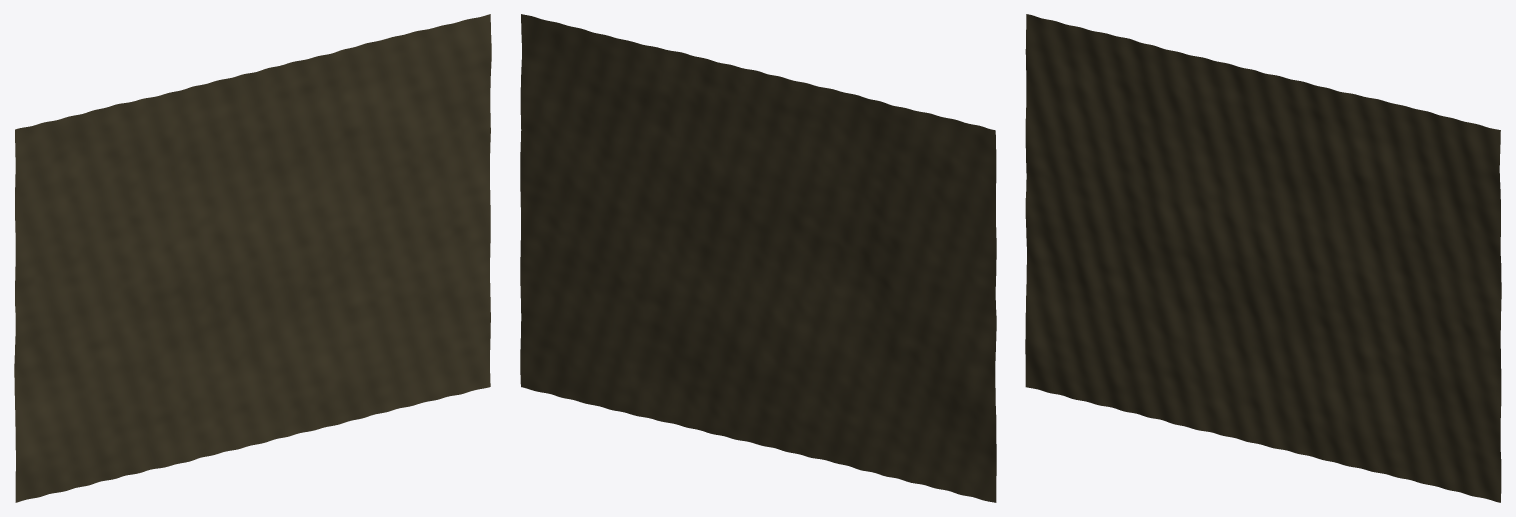
The model's file is seabed.obj.
3 views of the same model, side by side, from view 1: azimuth 30°, elevation 25°; view 2: azimuth 150°, elevation 25°; view 3: azimuth 330°, elevation 25° (orthographic).
Parts seen in each view (by area): view 1: seabed; view 2: seabed; view 3: seabed.
Boxes of the visible parts, <box> form: seabed: <box>14,14,491,502</box>; seabed: <box>520,14,996,502</box>; seabed: <box>1025,14,1501,502</box>.
Bounding box in the file's own units: 60 × 45 × 0.8631.
